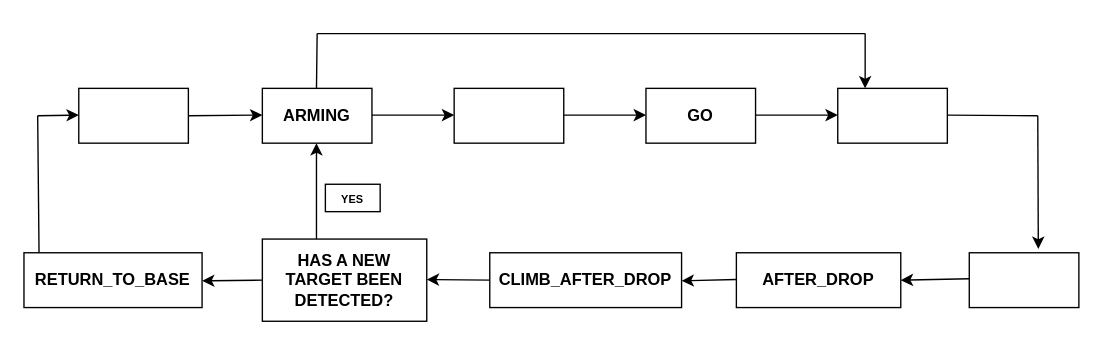
Image size: 1103x345. Some labels were removed from this diagram. Here are the shapes that lost their labels. From the top down, the centre of each, then its label:
pixel 132 115: IDLE
pixel 508 115: CLIMB
pixel 891 115: DESCEND
pixel 1023 279: DROP
